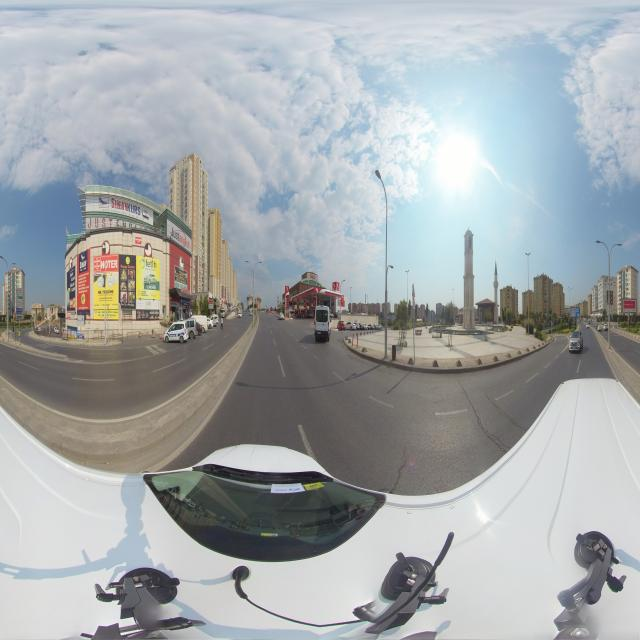SignStore: (180, 299, 190, 305), (171, 302, 178, 306), (222, 300, 225, 303)
